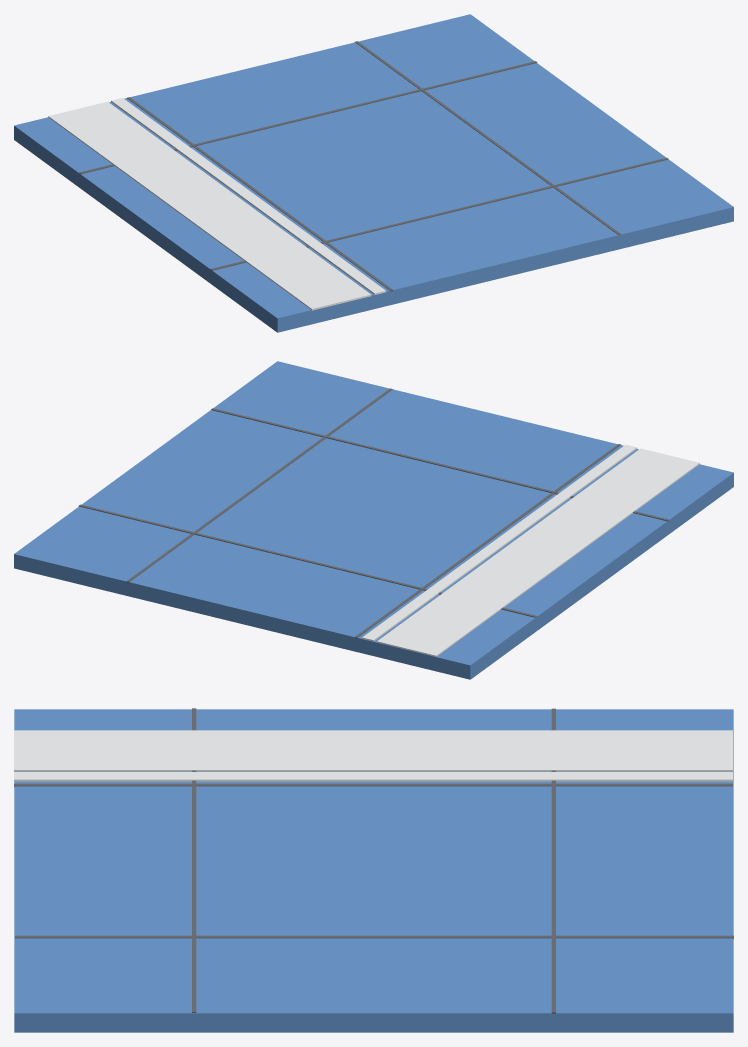
Rendered from Clinical Floor Tile Blue (Dental Practice and Surgery).glb.
3 renders of one model, top to bottom at view 1: azimuth 30°, elevation 25°; view 2: azimuth 150°, elevation 25°; view 3: azimuth 270°, elevation 25°, orthographic. The views are drawn at different scales.
Parts seen in each view (by area): view 1: clinical-floor-tile-blue; view 2: clinical-floor-tile-blue; view 3: clinical-floor-tile-blue.
Boxes of the visible parts, x1,y1,x2,y2 form: clinical-floor-tile-blue: (14,14,733,332); clinical-floor-tile-blue: (14,361,733,679); clinical-floor-tile-blue: (14,708,733,1032).
Size of the model in its own units: 2 by 0.0661 by 2.
